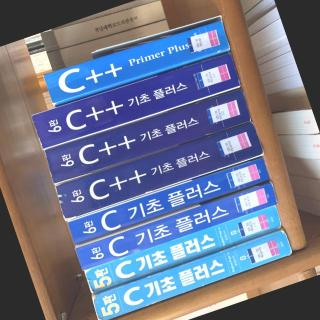book-spine: (53, 119, 264, 220), (42, 85, 252, 184), (31, 50, 241, 149), (90, 228, 293, 320), (74, 180, 279, 270), (83, 202, 282, 293), (67, 155, 270, 244), (42, 18, 231, 104)
